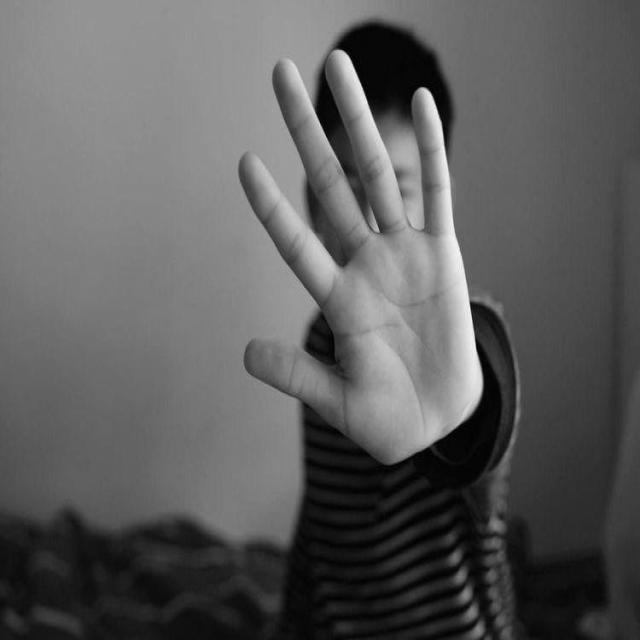stop: (234, 40, 490, 475)
